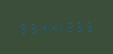five: (17, 21, 26, 35), (87, 18, 96, 32)
four: (37, 20, 46, 34), (47, 20, 56, 34)
nine: (27, 21, 36, 34)
one: (57, 19, 66, 33)
three: (77, 19, 86, 32)
two: (67, 19, 76, 33)
